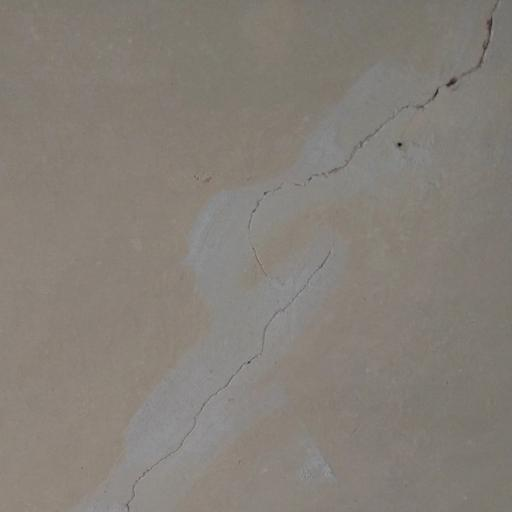minor_crack: (103, 0, 499, 512)
